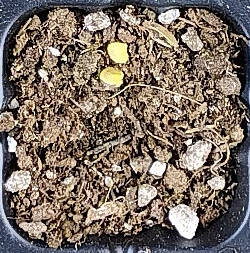pepper seed: (37, 24, 162, 110), (42, 9, 172, 74)
